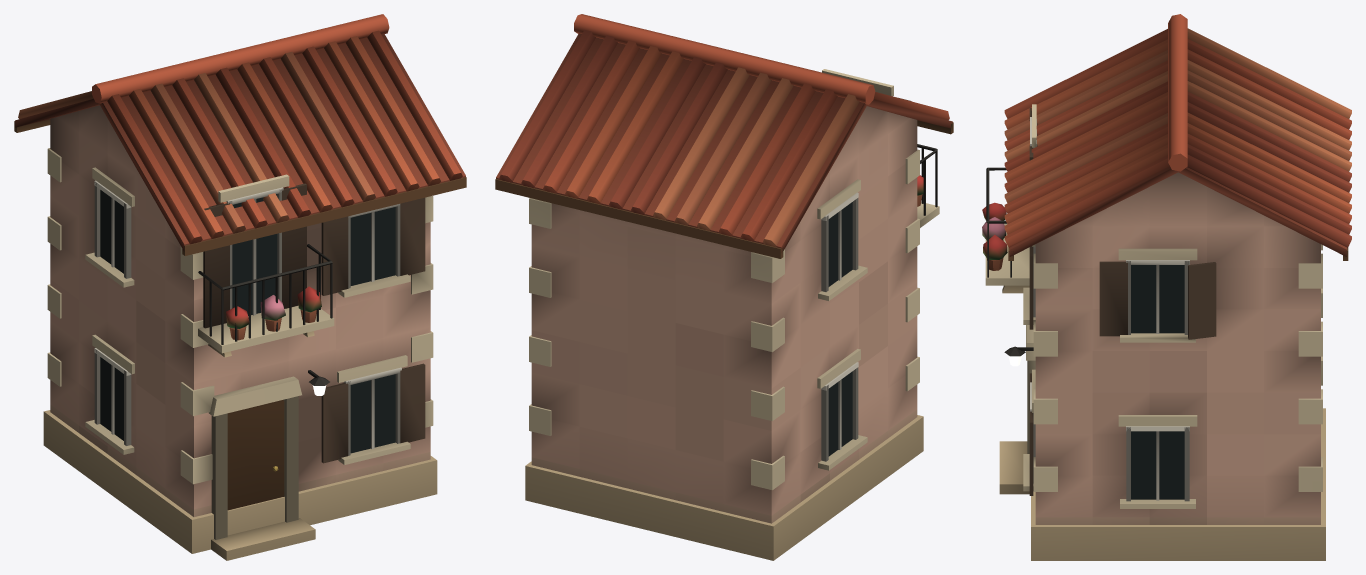
Rendered from townhouse_c.glb.
The picture shows the model from 3 angles, left to right: view 1: azimuth 30°, elevation 25°; view 2: azimuth 150°, elevation 25°; view 3: azimuth 270°, elevation 25°; orthographic projection.
Visible parts, largest first — view 1: townhouse_c_mesh; view 2: townhouse_c_mesh; view 3: townhouse_c_mesh.
Part boxes in pixels (left/top/right/bottom): townhouse_c_mesh: left=14, top=14, right=466, bottom=560; townhouse_c_mesh: left=495, top=14, right=953, bottom=560; townhouse_c_mesh: left=982, top=14, right=1351, bottom=560.
Bounding box in the file's own units: 4.86 × 6.78 × 5.44.
